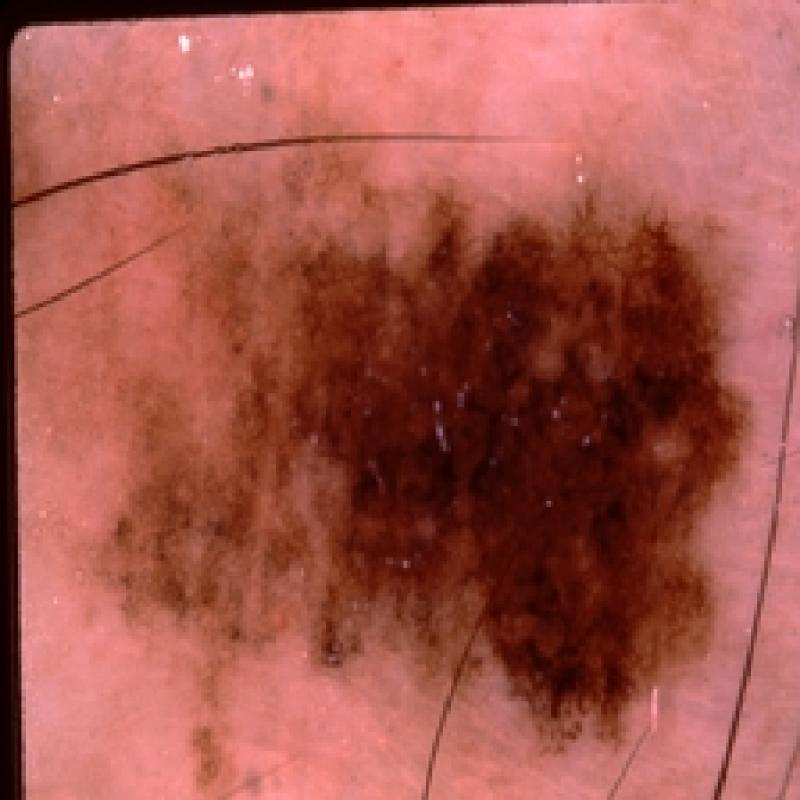malignant: (117, 156, 737, 727)
